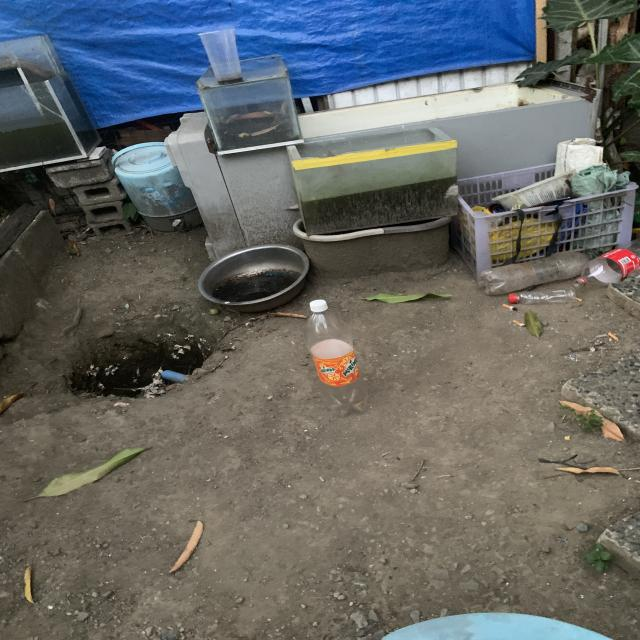Bottle: (305, 300, 367, 416)
